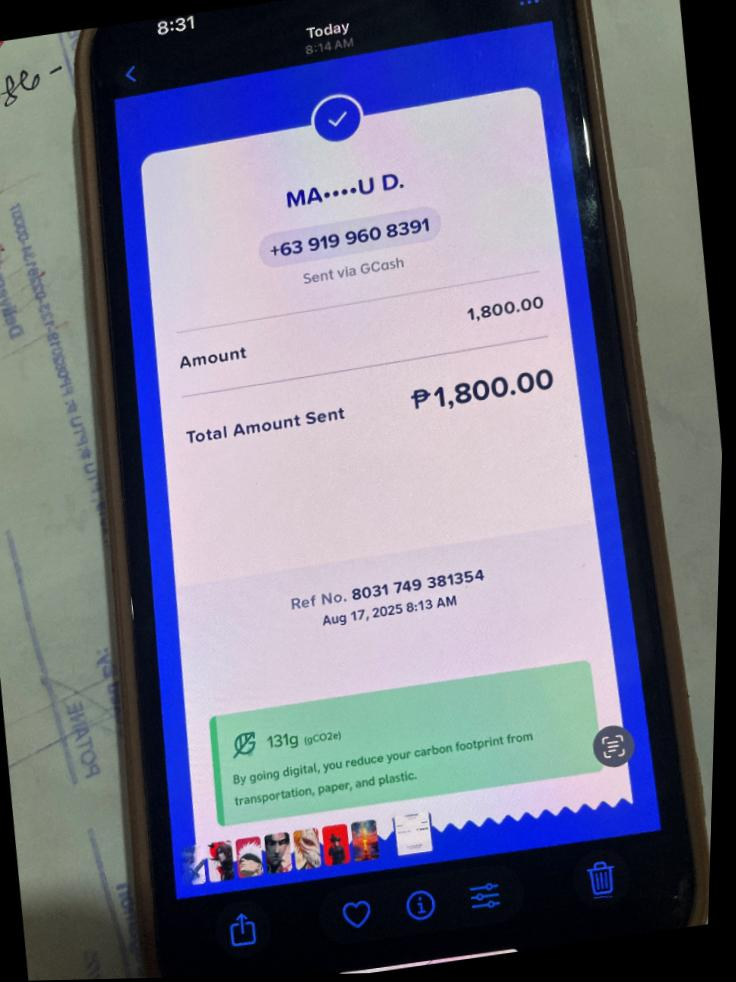Receipt: (114, 23, 661, 901)
